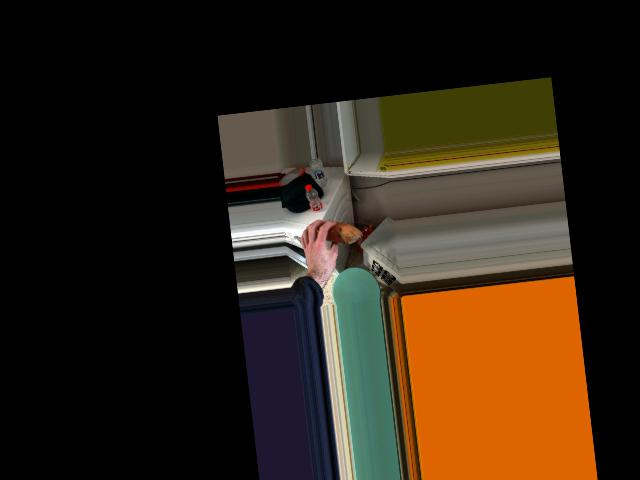sweet_potato: (311, 220, 361, 247)
